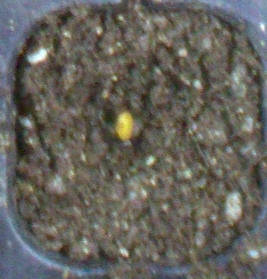pepper seed: (45, 39, 179, 180)
